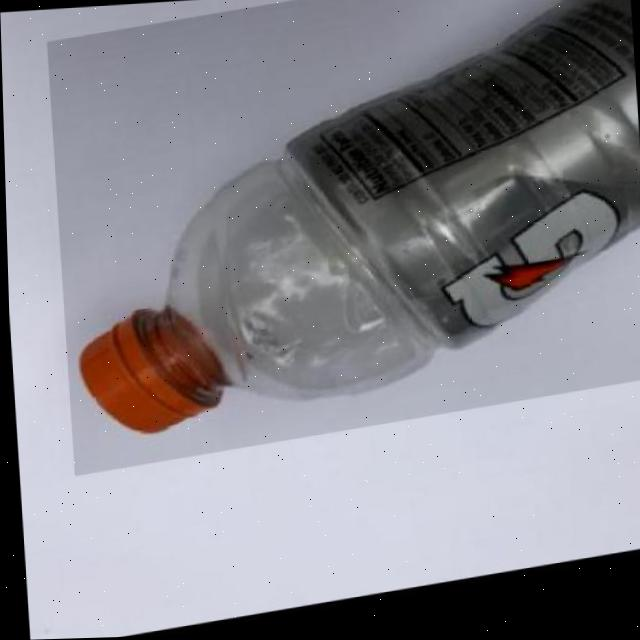Dry: (44, 0, 640, 477)
